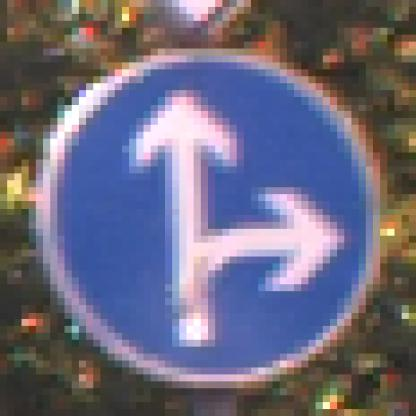Straight or Right: (37, 43, 374, 382)
